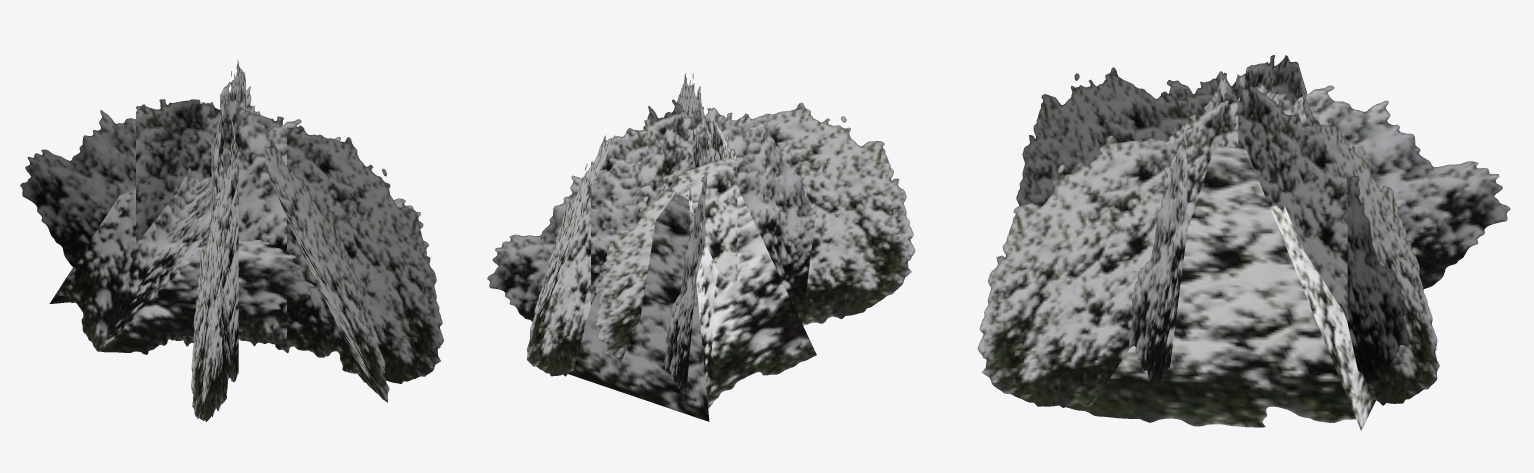
File: arbusto_neve.glb
3 renders of one model, left to right at view 1: azimuth 30°, elevation 25°; view 2: azimuth 150°, elevation 25°; view 3: azimuth 270°, elevation 25°, orthographic. The views are drawn at different scales.
Visible parts, largest first — view 1: arbusto_neve; view 2: arbusto_neve; view 3: arbusto_neve.
Part boxes in pixels (x1,y1,x2,y2): arbusto_neve: (20,60,443,421); arbusto_neve: (487,73,915,421); arbusto_neve: (977,55,1510,430).
Bounding box in the file's own units: 11.38 × 10 × 16.29.
Materials: 1 (1 with a texture image).
